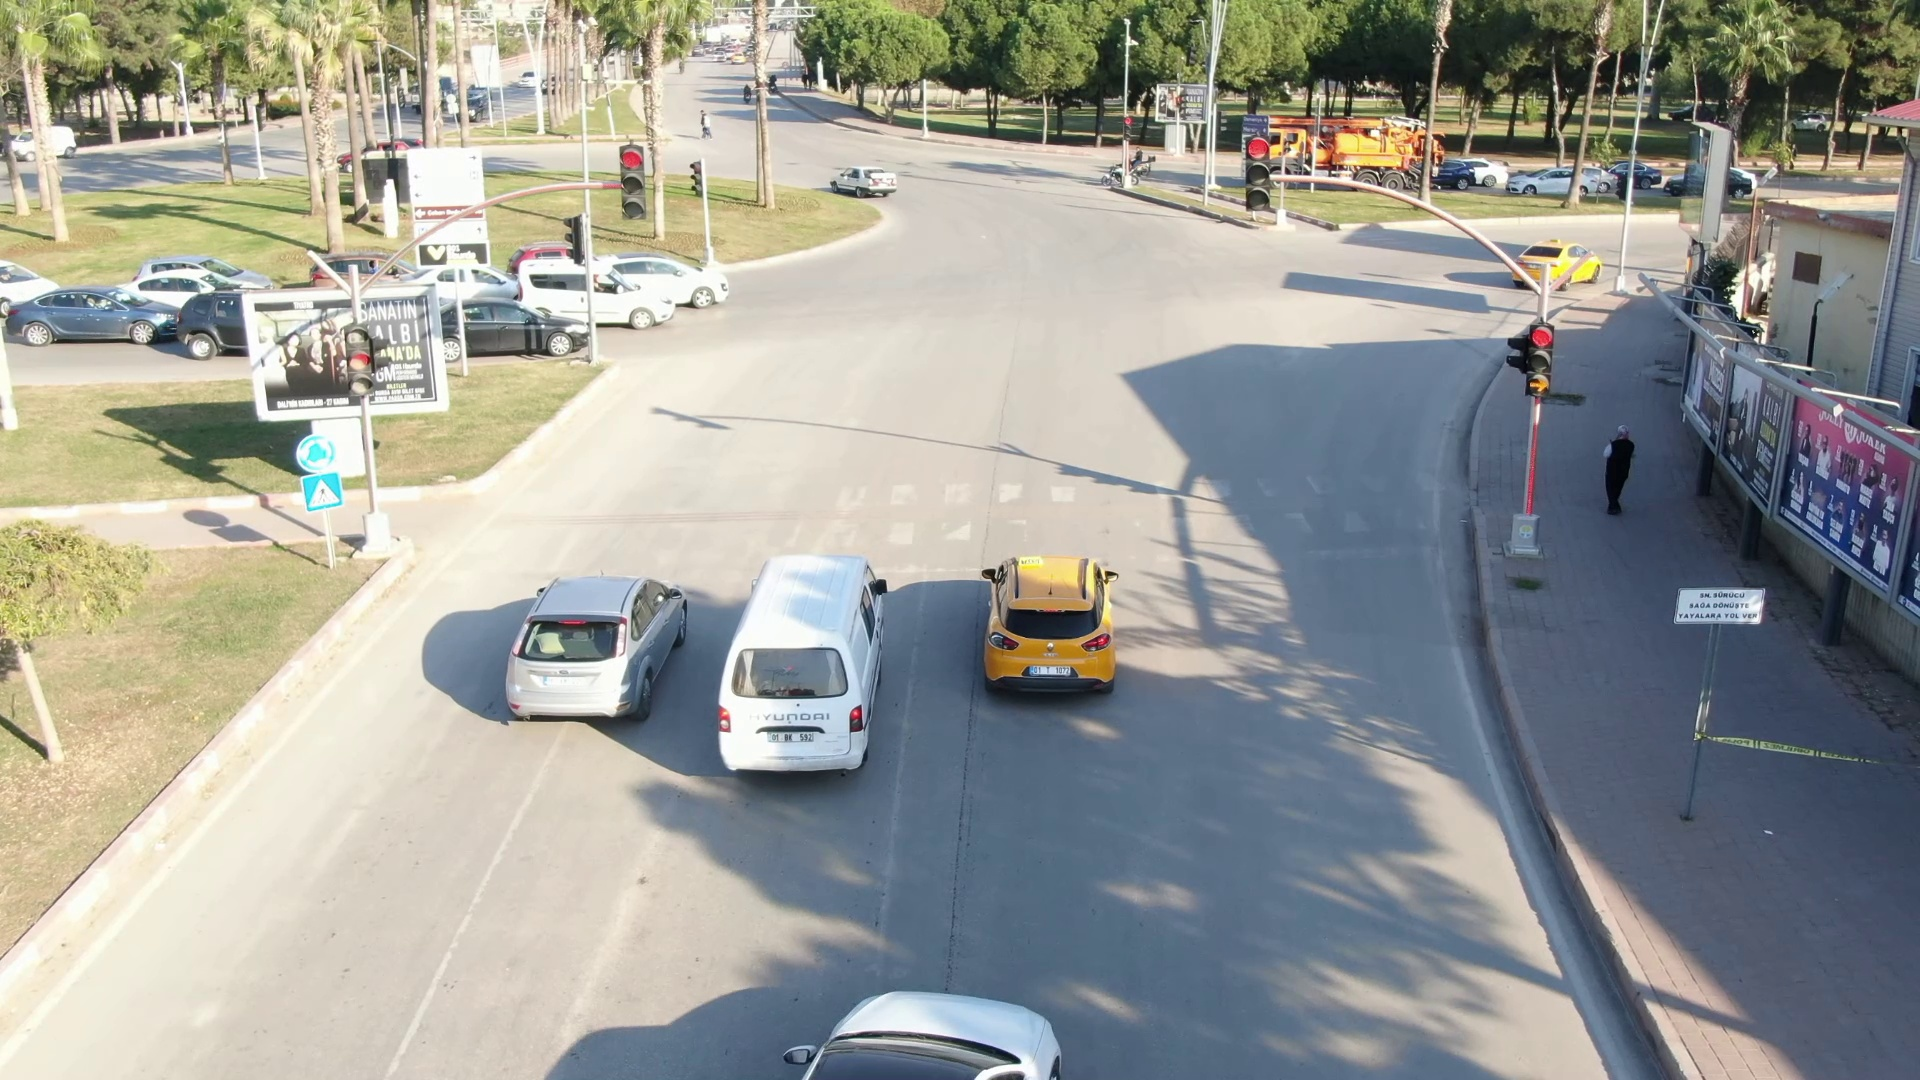car: (715, 553, 898, 778), (492, 566, 708, 727), (968, 553, 1137, 712), (512, 251, 676, 333), (432, 300, 590, 359), (600, 251, 731, 304), (1515, 233, 1612, 284), (829, 159, 900, 200)
person: (1588, 425, 1643, 523)
